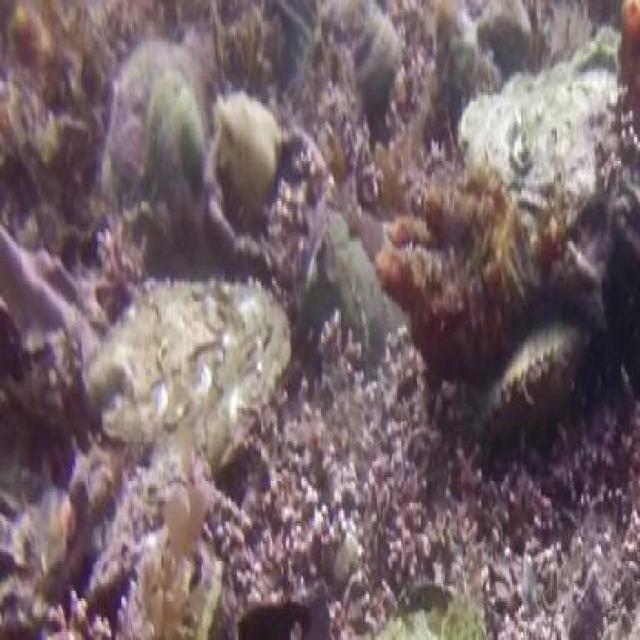Oyster- Indeterminate: (86, 250, 328, 458), (78, 35, 238, 225), (452, 66, 635, 210), (205, 90, 296, 191)
Oyster-Closed: (315, 210, 413, 357), (117, 521, 236, 640), (484, 321, 594, 428), (424, 12, 506, 105)
Oyster-Open: (348, 11, 402, 105)
